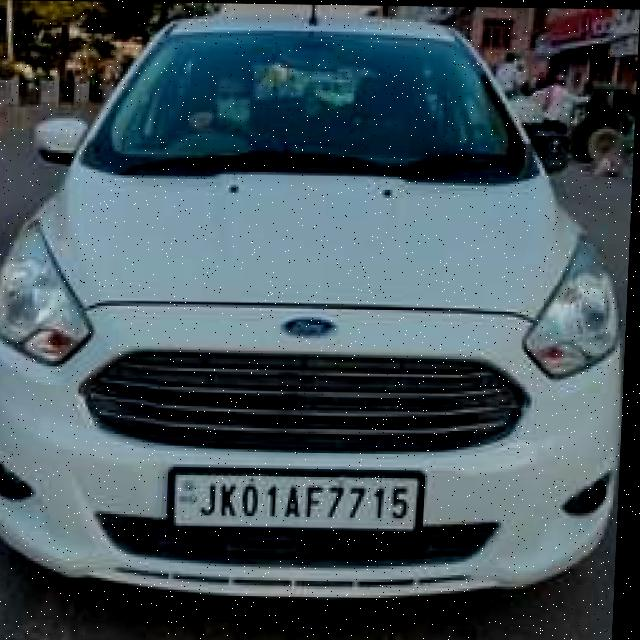plate: (171, 464, 430, 531)
